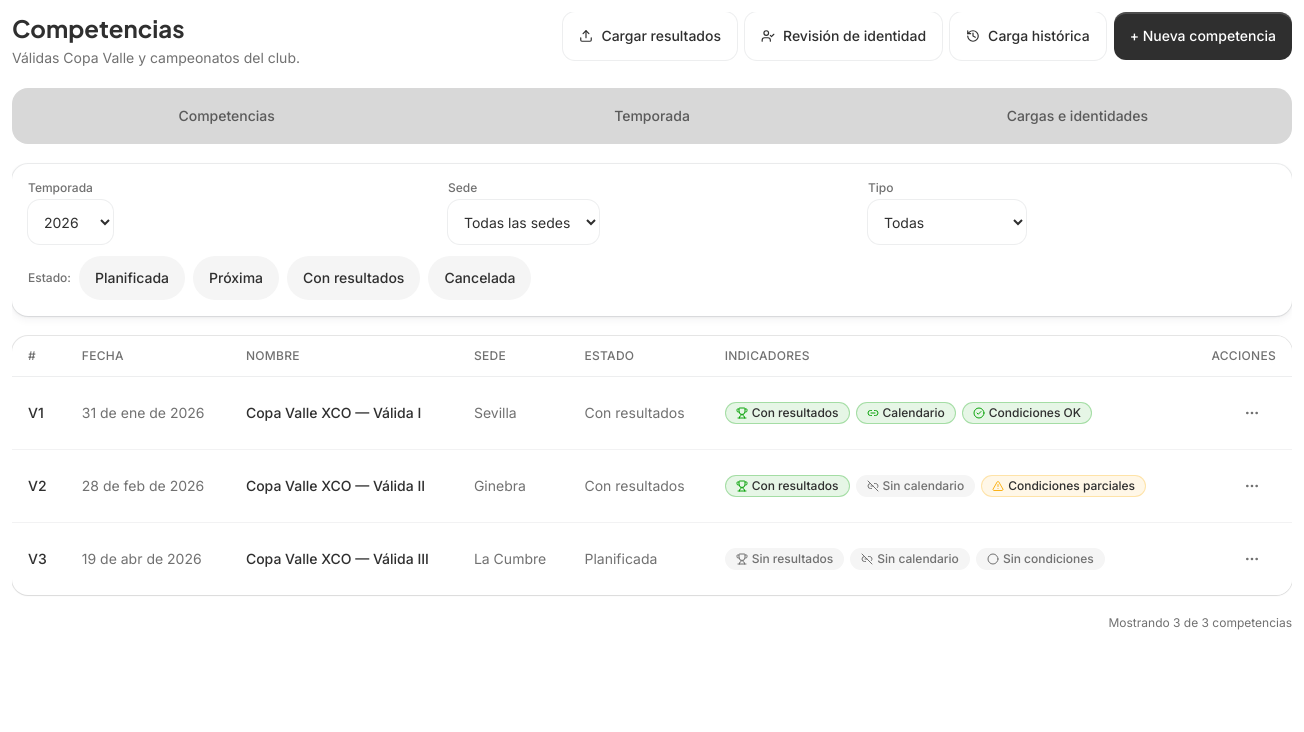
Test: CompetitionsListPage — render › kebab de acciones ya no incluye 'Ver detalle' (la fila es clickeable)
Expected: the link "Copa Valle XCO — Válida I" is shown, [246,404,421,421]
Click the button named "Acciones para" at (1252, 413), box [1228,389,1276,437]
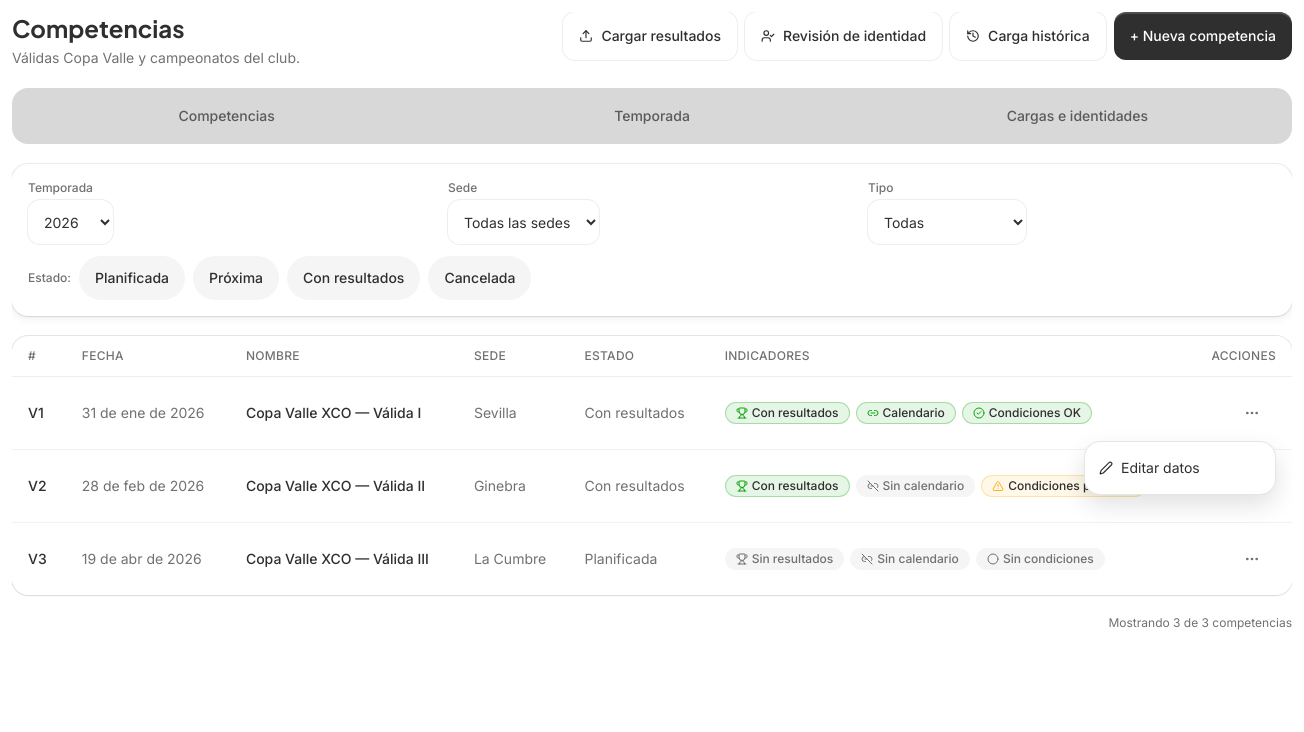
Now the menu item "Editar datos" is shown, box [1099,459,1200,476]
